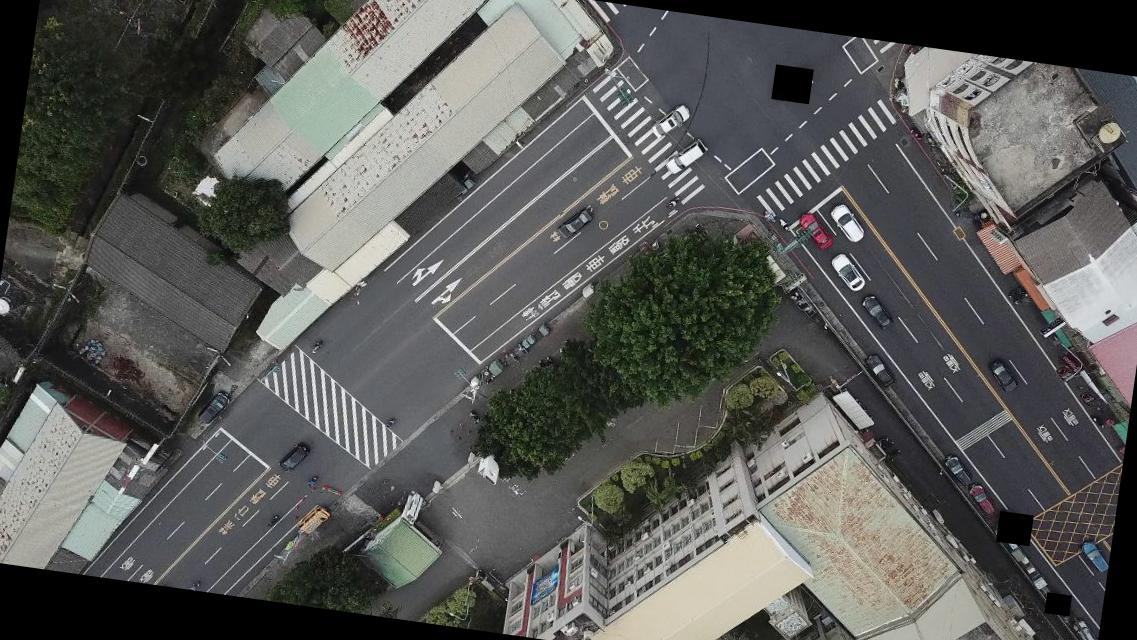vehicle: (664, 134, 706, 179), (826, 202, 868, 245), (649, 100, 690, 144), (794, 210, 836, 251), (554, 202, 595, 244), (826, 252, 866, 292), (858, 294, 897, 332), (293, 502, 331, 540), (196, 388, 232, 428), (275, 439, 312, 476), (861, 353, 898, 389), (1076, 538, 1110, 576), (940, 453, 976, 488), (986, 358, 1021, 393), (966, 484, 999, 516)
